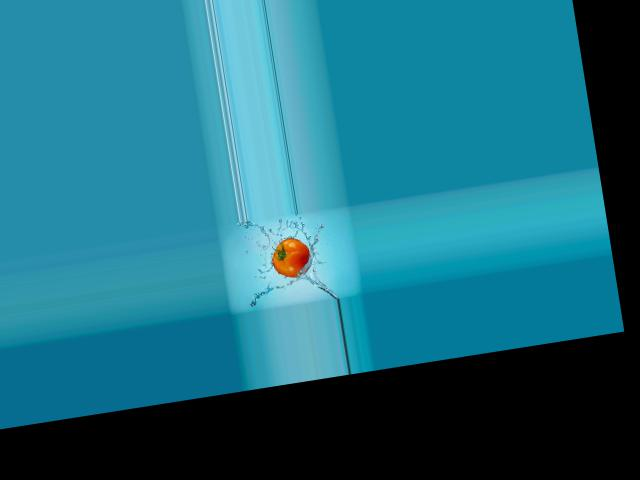tomato: (269, 234, 313, 280)
